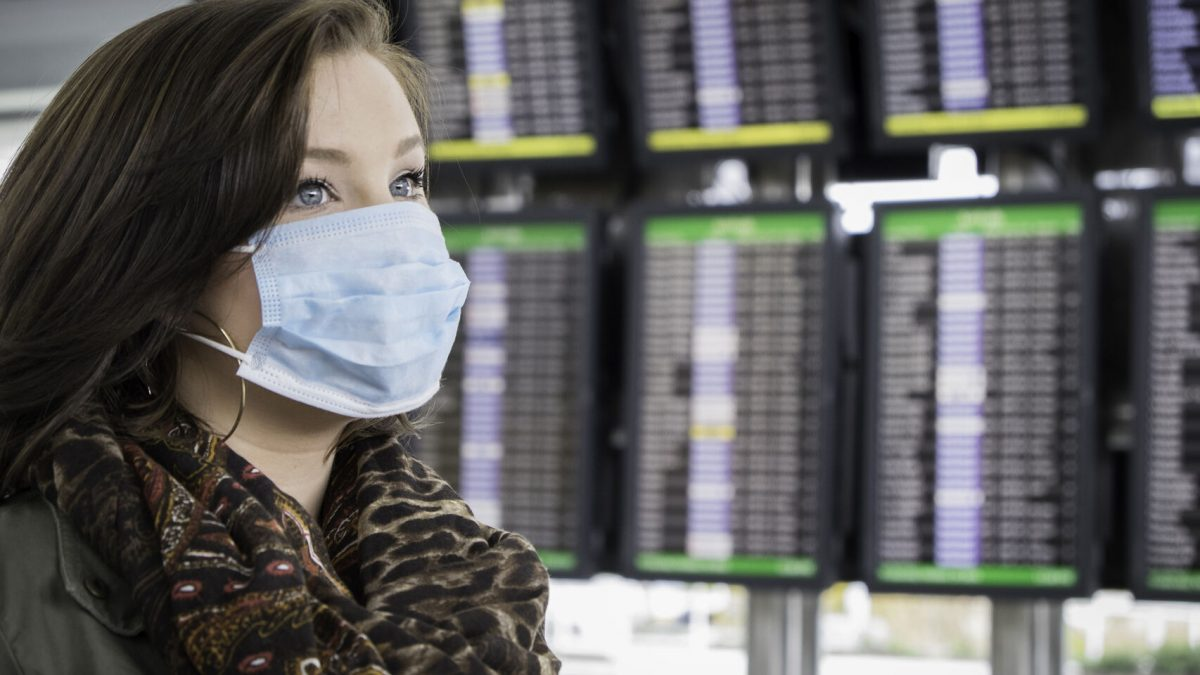with_mask: (128, 38, 484, 419)
